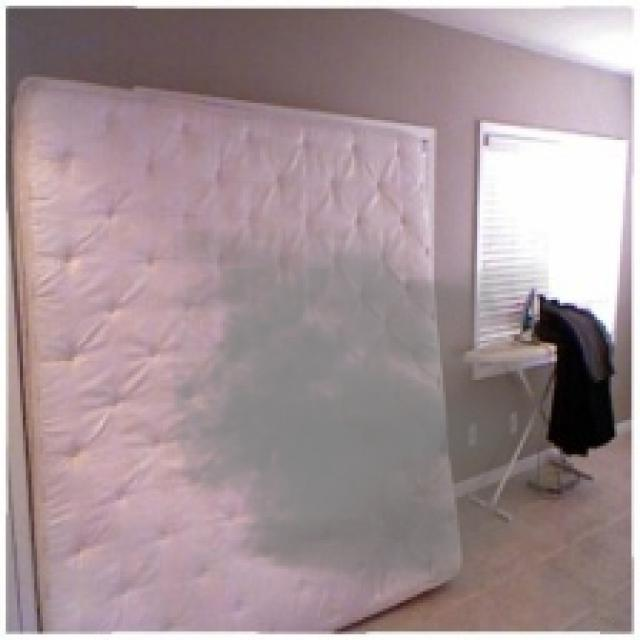Smoke: (160, 228, 549, 594)
